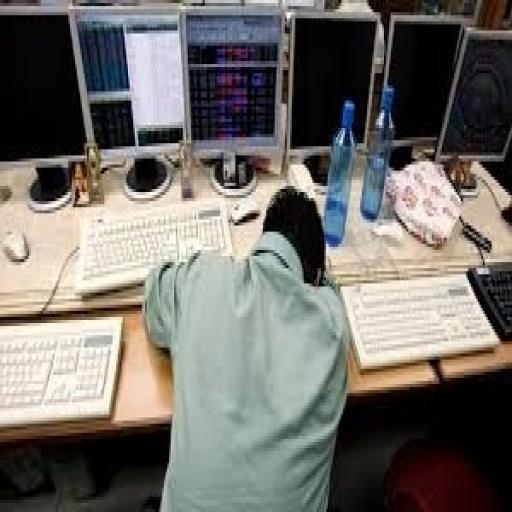sleeping: (140, 183, 352, 509)
